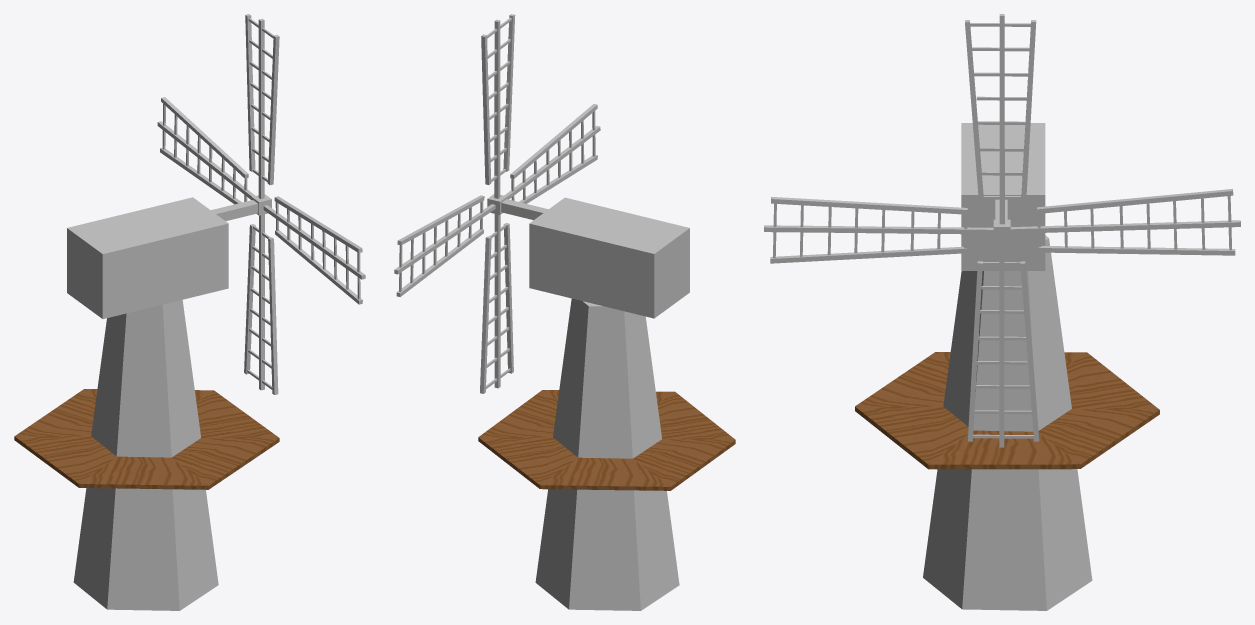
Rendered from huusya.fbx.
3 renders of one model, left to right at view 1: azimuth 30°, elevation 25°; view 2: azimuth 150°, elevation 25°; view 3: azimuth 270°, elevation 25°, orthographic. The views are drawn at different scales.
Visible parts, largest first — view 1: Cylinder; view 2: Cylinder; view 3: Cylinder.
Part boxes in pixels (bbox=[...]): Cylinder: bbox=[14, 14, 365, 610]; Cylinder: bbox=[394, 14, 735, 610]; Cylinder: bbox=[764, 14, 1240, 610].
Bounding box in the file's own units: 1468 × 3462 × 2380.
